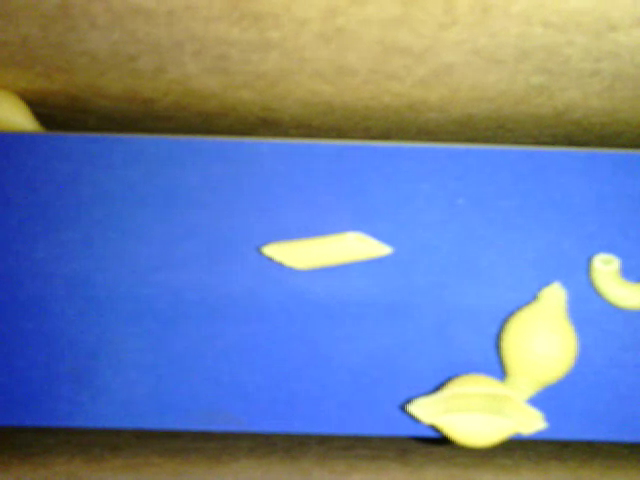elbow: (587, 251, 639, 313)
penne: (257, 227, 393, 272)
shell: (404, 373, 549, 448), (493, 280, 579, 406), (1, 86, 46, 133)
